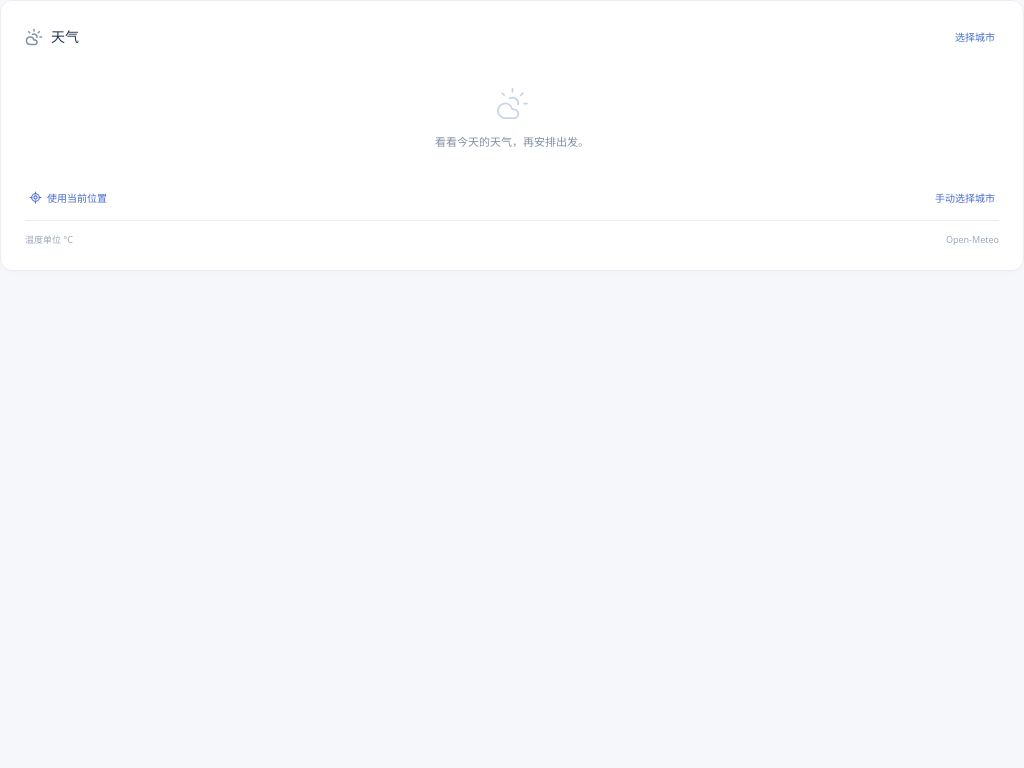
Scenario: 城市搜索无结果与错误时保留输入并允许重试
Click the button "选择城市". click: (975, 37)
box: [951,24,999,50]
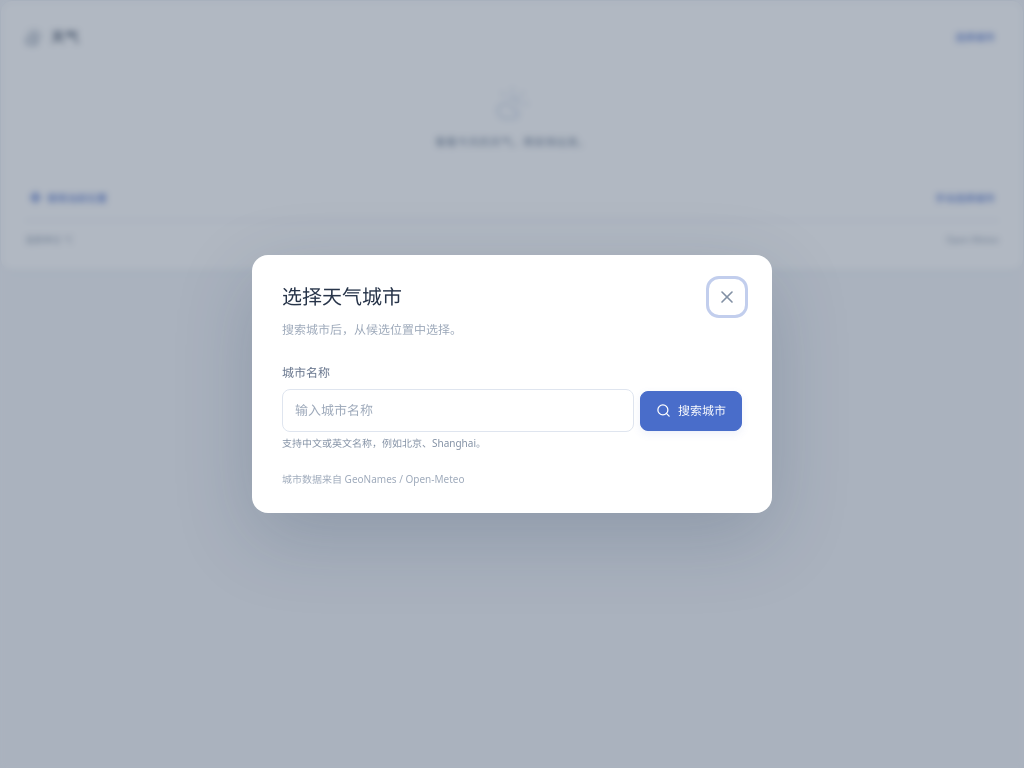
Type "未知城市" into the field labelled "城市名称". click: (458, 411)
box: [282,389,634,432]
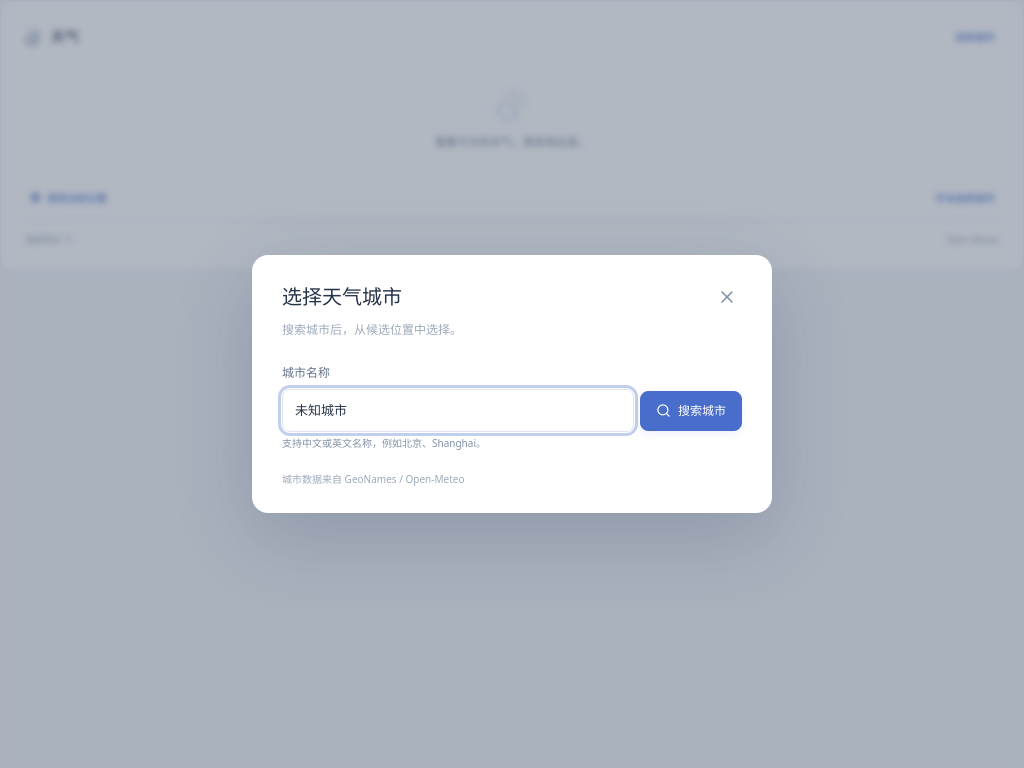
Click the button "搜索城市". click: (691, 411)
box: [640,391,742,431]
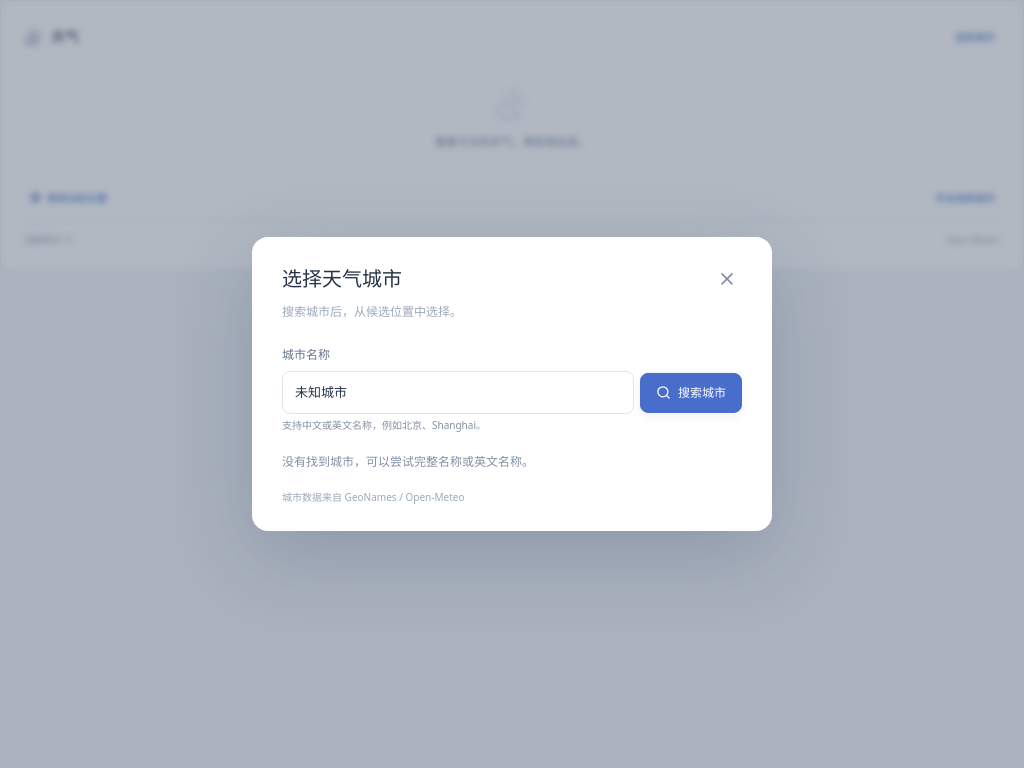
Result: the text "没有找到城市，可以尝试完整名称或英文名称。" is shown at [282,453,534,470]
Click the button "搜索城市". click: (691, 393)
box: [640,373,742,413]
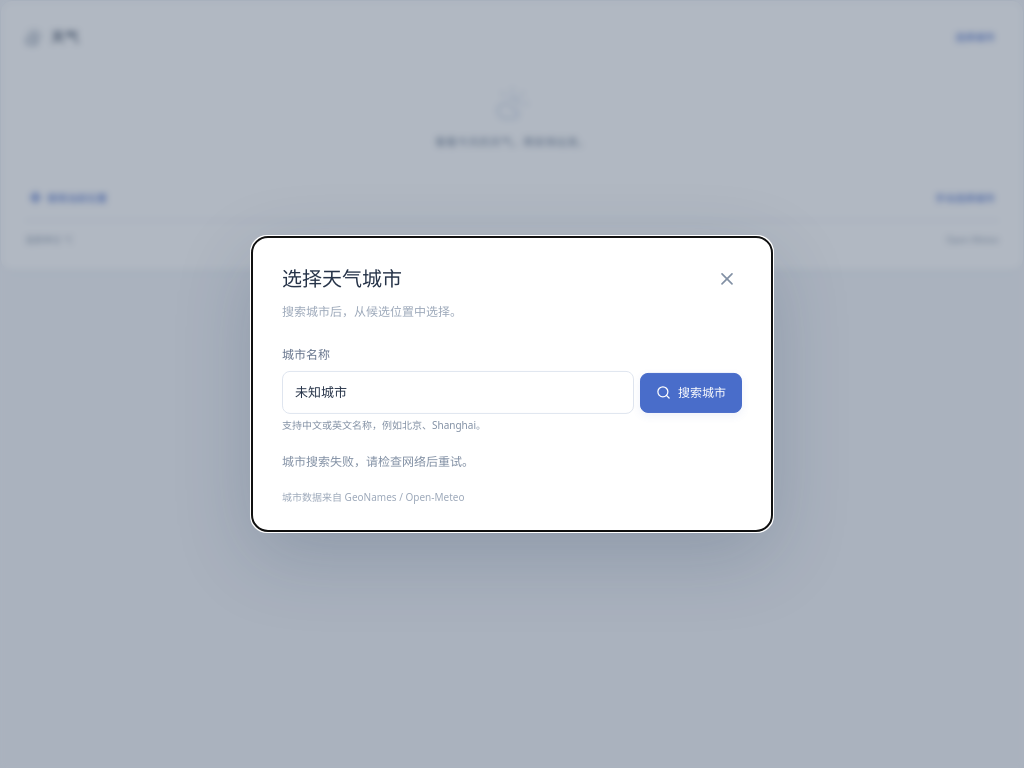
Result: the text "城市搜索失败，请检查网络后重试。" is shown at [282,453,474,470]
